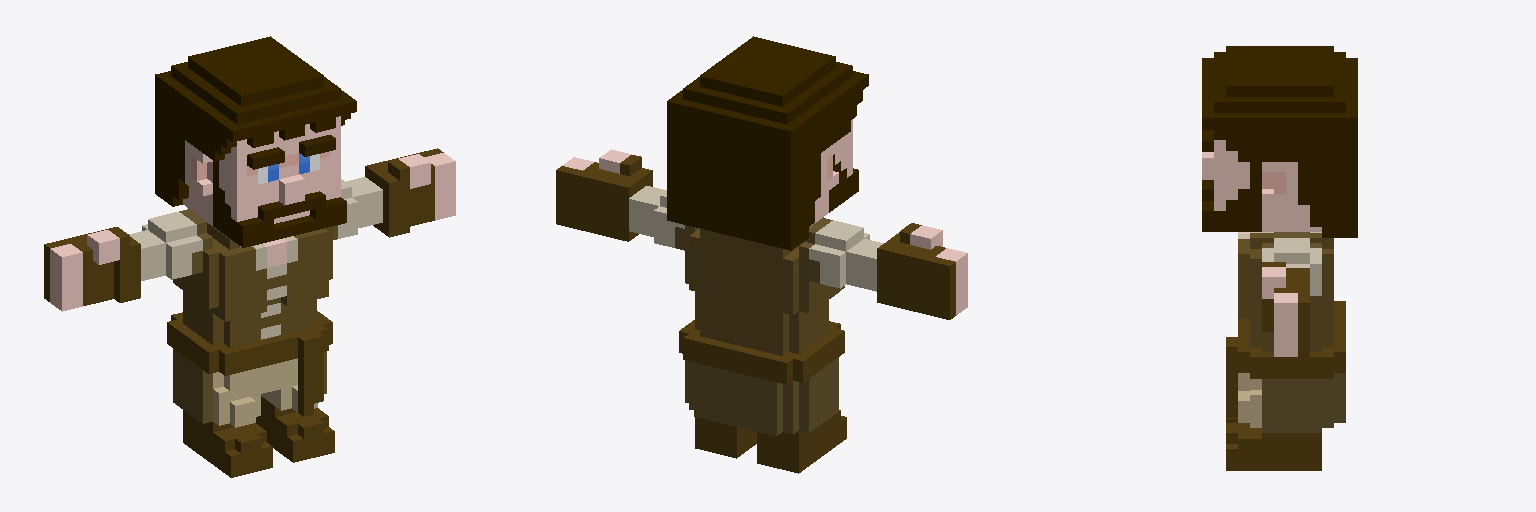
The picture shows the model from 3 angles: view 1: azimuth 30°, elevation 25°; view 2: azimuth 150°, elevation 25°; view 3: azimuth 270°, elevation 25°; orthographic projection.
Visible parts, largest first — view 1: HairHelmet, Head, Chest, Belt, Matrix_2, Matrix_3, Union, Matrix, Matrix_1, Union_1, Waist, Box (+1 smaller); view 2: HairHelmet, Chest, Belt, Matrix_2, Matrix_3, Union, Matrix, Union_1, Head, Matrix_1; view 3: HairHelmet, Belt, Head, Chest, Matrix_3, Matrix_1, Union_1, Box_1.
Part boxes in pixels (left/top/right/bottom): HairHelmet: left=155, top=36, right=356, bottom=206; Head: left=183, top=116, right=346, bottom=247; Chest: left=173, top=208, right=332, bottom=347; Belt: left=167, top=311, right=332, bottom=423; Matrix_2: left=44, top=227, right=140, bottom=311; Matrix_3: left=365, top=148, right=455, bottom=237; Union: left=129, top=209, right=212, bottom=280; Matrix: left=183, top=410, right=272, bottom=477; Matrix_1: left=256, top=396, right=334, bottom=462; Union_1: left=333, top=177, right=382, bottom=239; Waist: left=213, top=358, right=297, bottom=401; Box: left=213, top=386, right=260, bottom=427; HairHelmet: left=667, top=36, right=868, bottom=250; Chest: left=685, top=217, right=844, bottom=355; Belt: left=679, top=320, right=844, bottom=436; Matrix_2: left=877, top=223, right=967, bottom=319; Matrix_3: left=556, top=149, right=652, bottom=241; Union: left=799, top=218, right=883, bottom=291; Matrix: left=757, top=410, right=846, bottom=473; Union_1: left=629, top=186, right=698, bottom=251; Head: left=810, top=119, right=858, bottom=226; Matrix_1: left=695, top=417, right=756, bottom=458; HairHelmet: left=1202, top=46, right=1357, bottom=237; Belt: left=1226, top=301, right=1345, bottom=432; Head: left=1202, top=130, right=1321, bottom=231; Chest: left=1238, top=232, right=1333, bottom=351; Matrix_3: left=1262, top=262, right=1309, bottom=356; Matrix_1: left=1226, top=423, right=1321, bottom=470; Union_1: left=1262, top=232, right=1321, bottom=295; Box_1: left=1238, top=390, right=1261, bottom=427.
Size of the model in its own units: 2.39 by 2.21 by 0.819.
Materials: 1 (1 with a texture image).